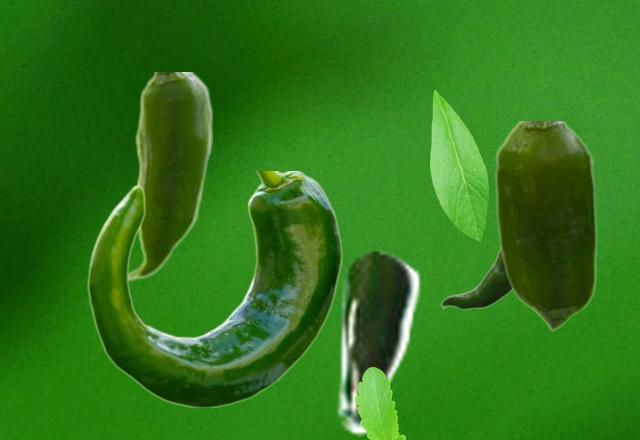green_chili: (87, 171, 342, 406), (494, 121, 596, 330), (130, 72, 211, 281), (332, 248, 421, 435), (440, 250, 511, 309)
